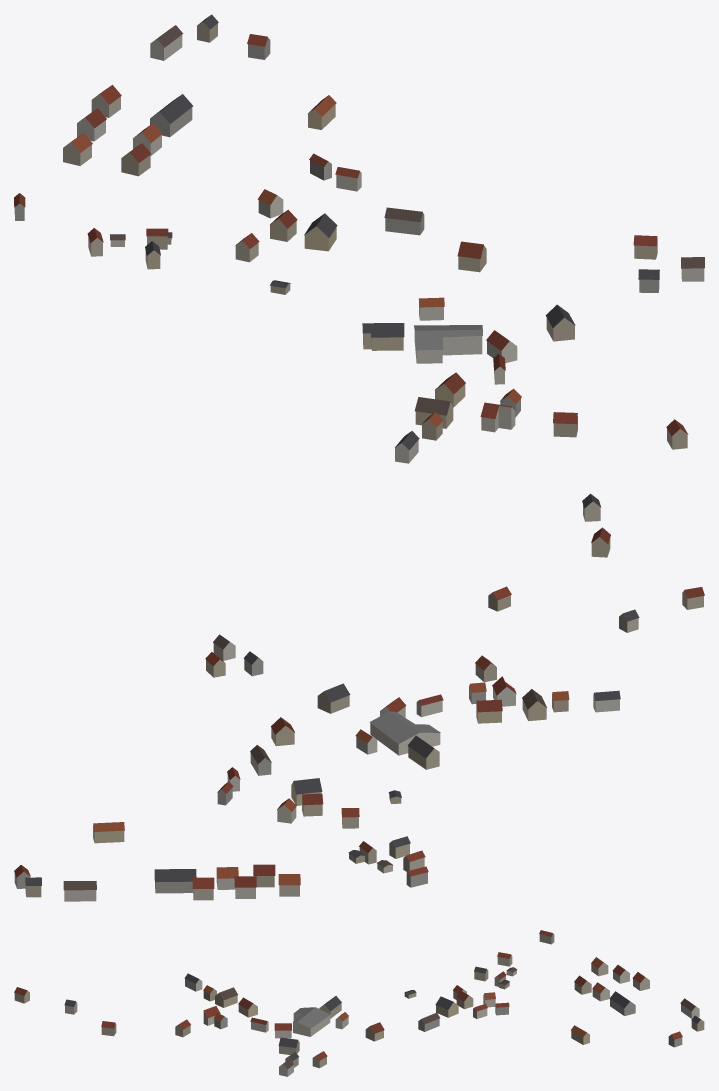
3 renders of one model, top to bottom at view 1: azimuth 30°, elevation 25°; view 2: azimuth 150°, elevation 25°; view 3: azimuth 270°, elevation 25°, orthographic. The views are drawn at different scales.
Parts seen in each view (by area): view 1: buildings; view 2: buildings; view 3: buildings.
Part boxes in pixels (box(x1,y1,x2,y2)): buildings: box(14, 14, 704, 557); buildings: box(14, 586, 704, 901); buildings: box(14, 930, 704, 1076).
Bounding box in the file's own units: 213 × 31.52 × 465.
